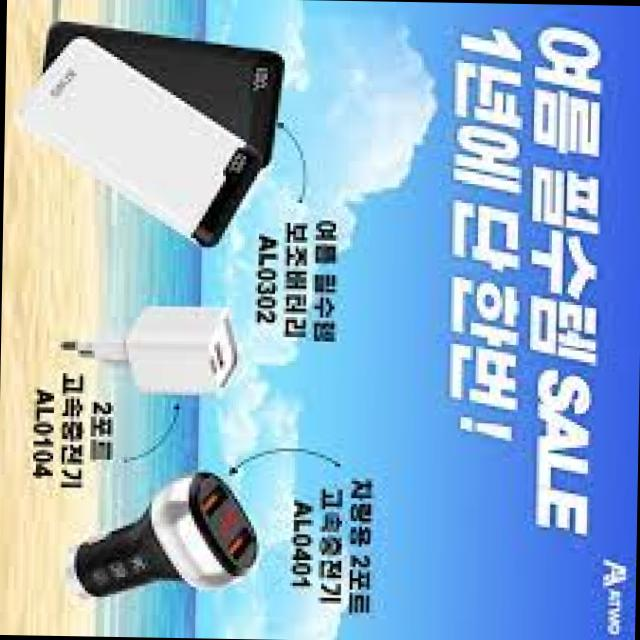power_bank: (25, 38, 276, 252), (29, 27, 284, 166)
